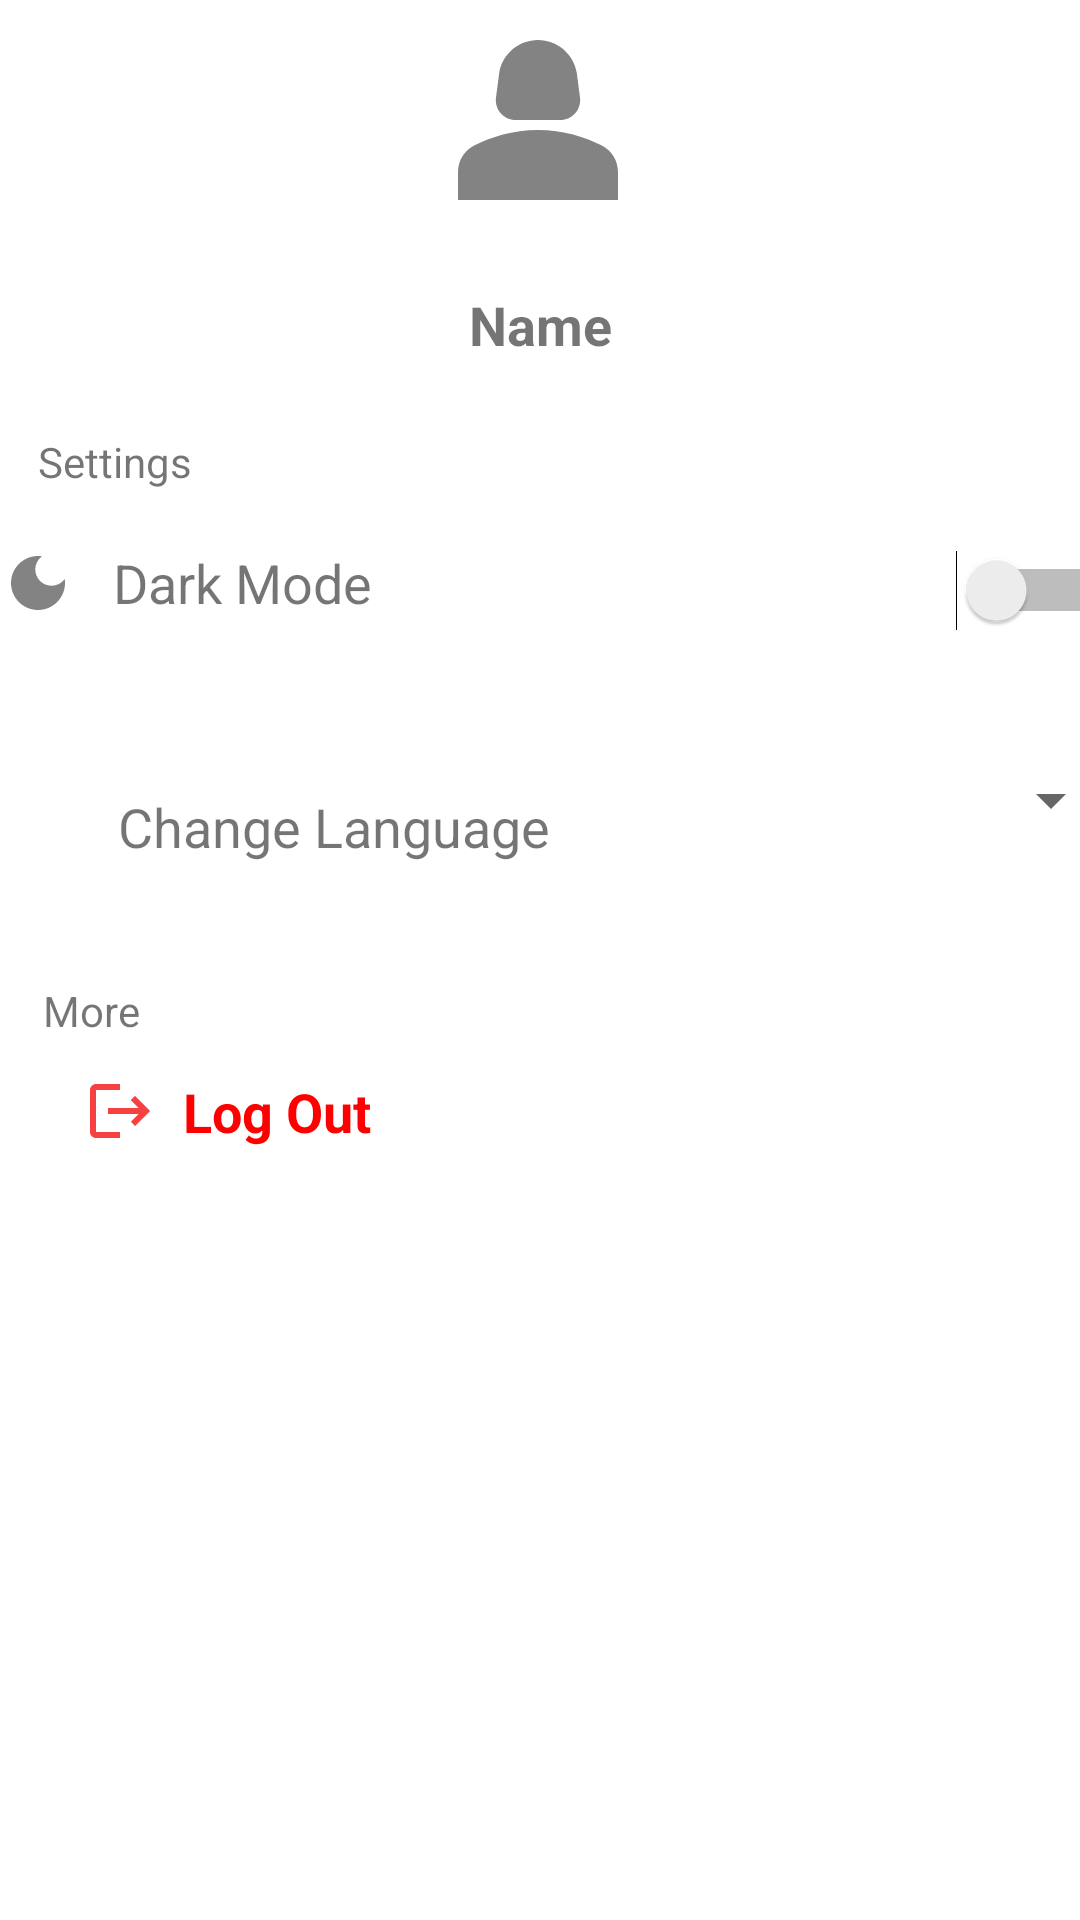

Icon click points for this 1080 × 1920 phone screenshot, format point (x, y):
Profile Picture: point (538, 120)
